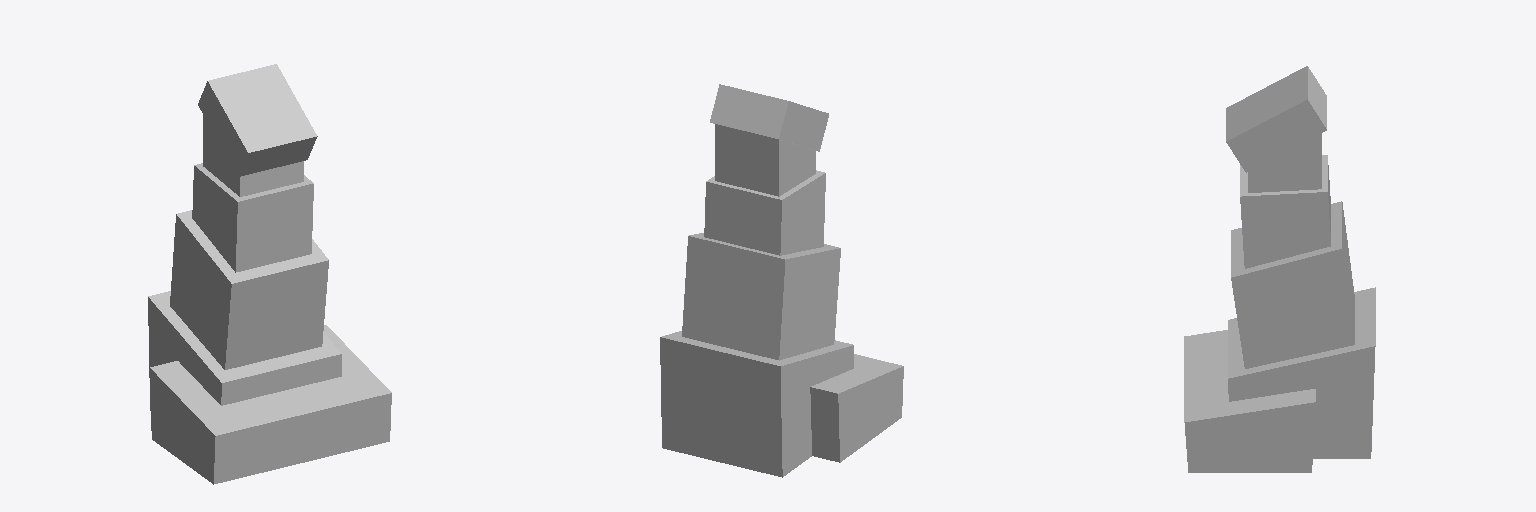
Rendered from pony.obj.
3 renders of one model, left to right at view 1: azimuth 30°, elevation 25°; view 2: azimuth 150°, elevation 25°; view 3: azimuth 270°, elevation 25°, orthographic.
Parts seen in each view (by area): view 1: polySurface16; view 2: polySurface16; view 3: polySurface16.
Boxes of the visible parts, x1=… form: polySurface16: x1=148, y1=64, x2=391, y2=484; polySurface16: x1=660, y1=84, x2=903, y2=477; polySurface16: x1=1184, y1=66, x2=1375, y2=472.
Bounding box in the file's own units: 0.4657 × 0.8755 × 0.4368.